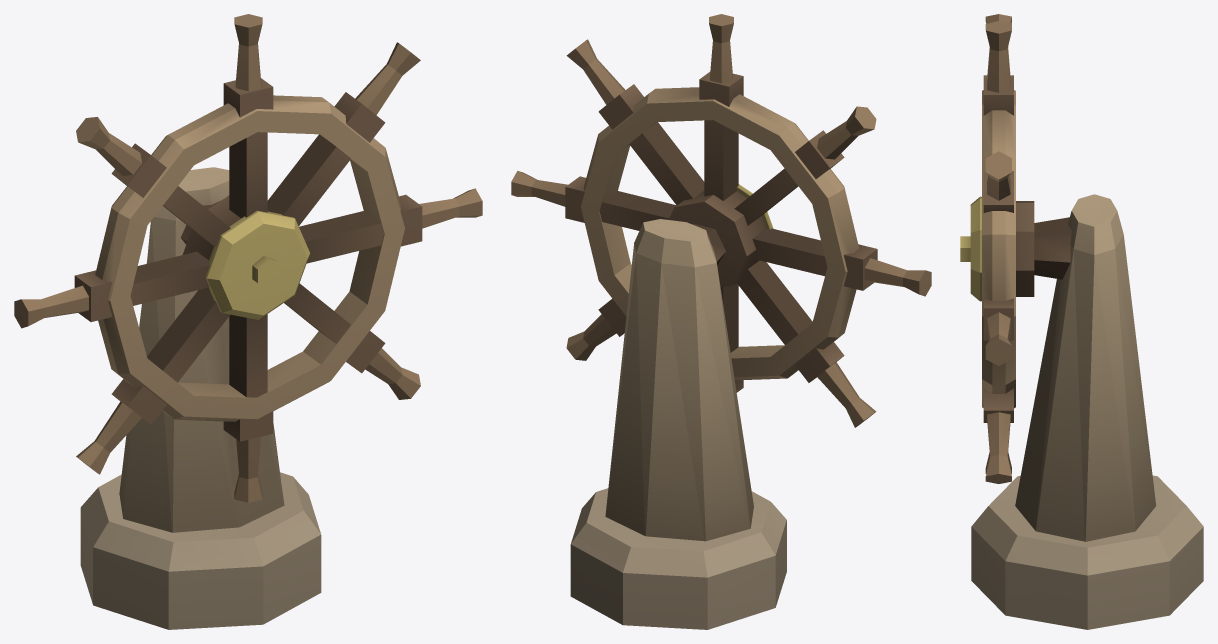
File: wheel.glb
The picture shows the model from 3 angles, left to right: view 1: azimuth 30°, elevation 25°; view 2: azimuth 150°, elevation 25°; view 3: azimuth 270°, elevation 25°; orthographic projection. The views are drawn at different scales.
Parts seen in each view (by area): view 1: wheel.001; view 2: wheel.001; view 3: wheel.001.
Part boxes in pixels (<box>): wheel.001: <box>14,14,482,629</box>; wheel.001: <box>511,14,931,629</box>; wheel.001: <box>960,14,1203,629</box>.
Bounding box in the file's own units: 1.04 × 1.29 × 0.5158.
